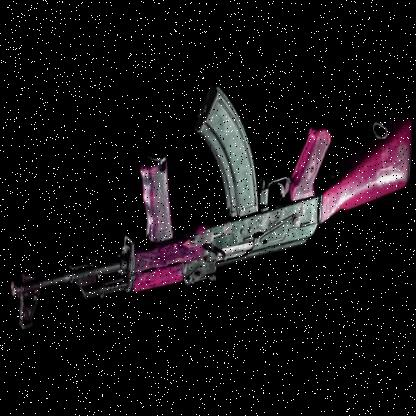rifle: (6, 85, 415, 356)
